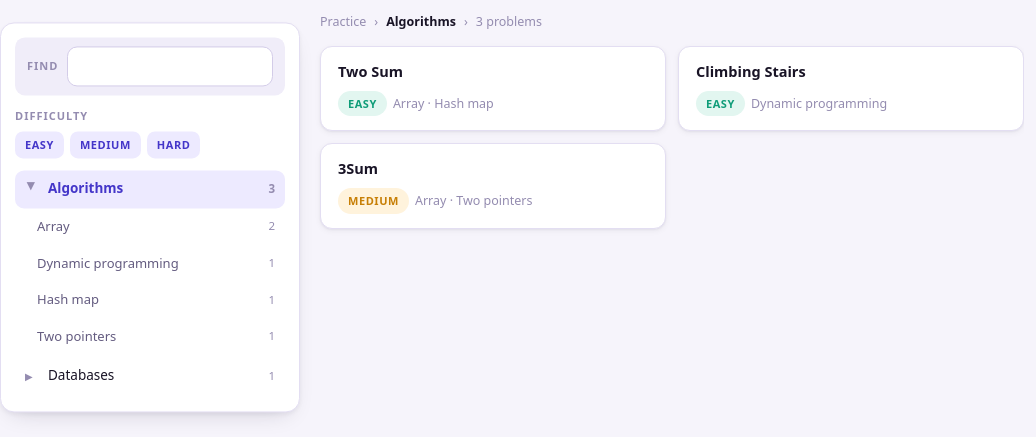
TreeBrowser (issue #90) › searching finds an item across domains without requiring the right one to be open
Check: the button "Top Customers" is not shown
Type "Top Customers" into the search field named "Find a problem". click: x=170, y=66
box: [67, 46, 273, 86]
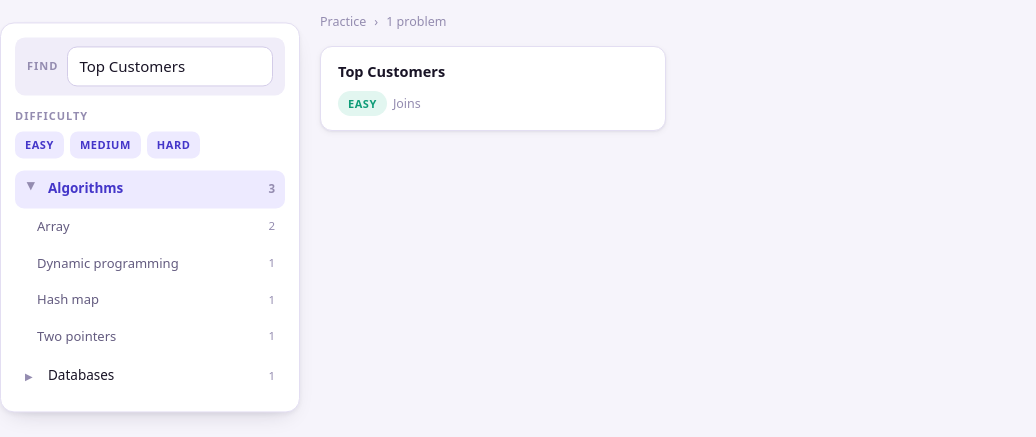
Check: the button "Top Customers Easy Joins" is shown, box [320, 46, 666, 131]
